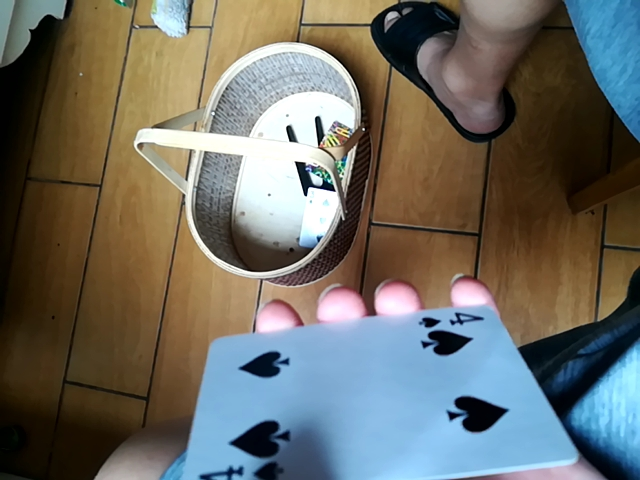ht 4: (180, 295, 579, 479)
